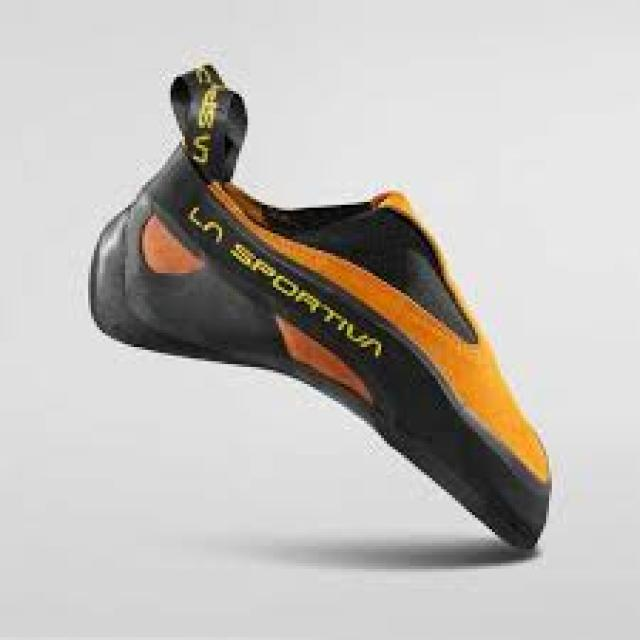climbing-shoes: (90, 62, 555, 552)
